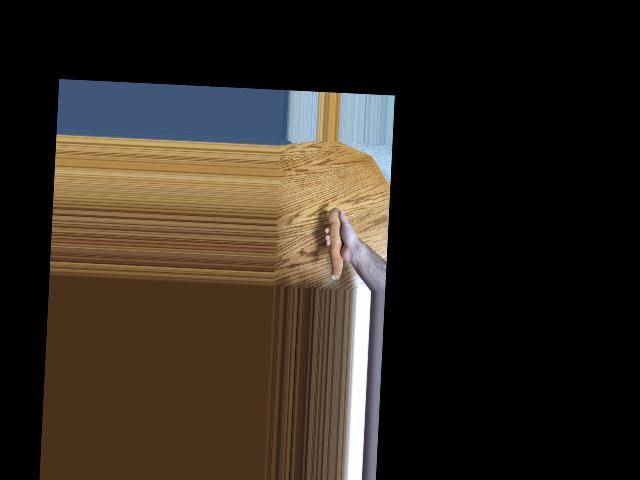sweet_potato: (324, 206, 351, 282)
